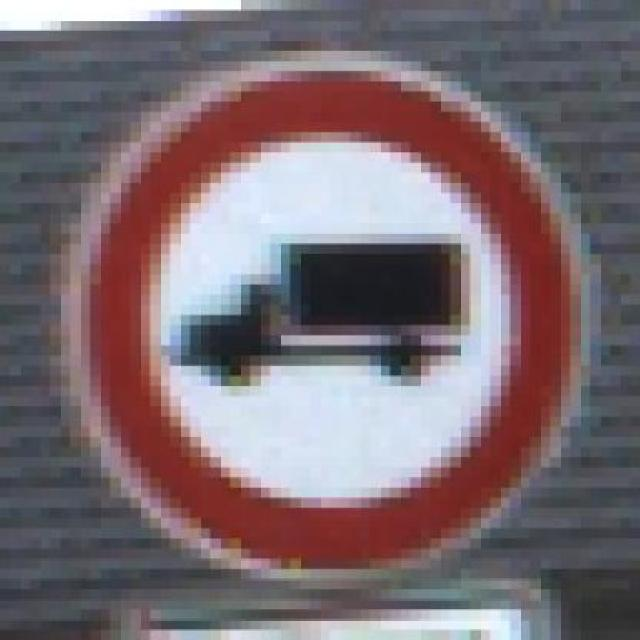Truck traffic is prohibited: (46, 30, 606, 588)
